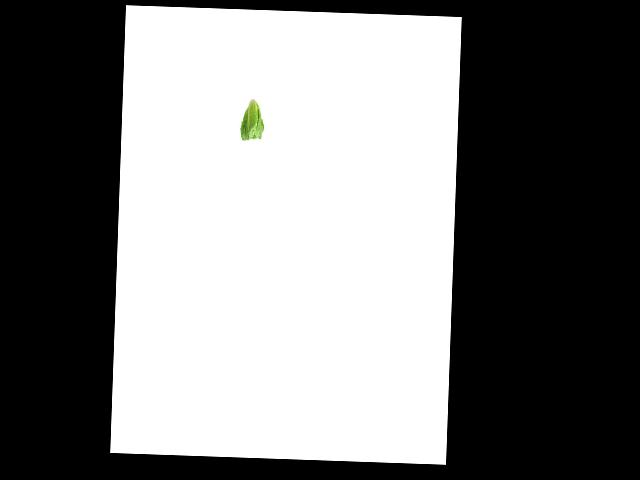lettuce: (236, 97, 268, 143)
